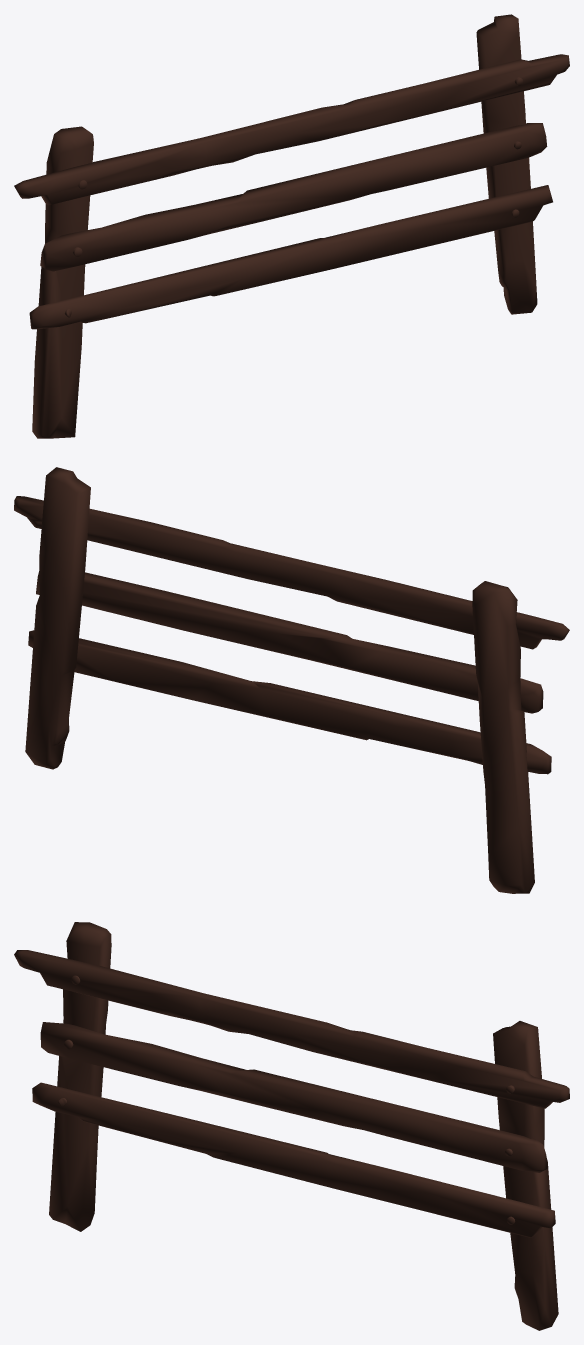
Rendered from SM_Fence_01.fbx.
3 renders of one model, top to bottom at view 1: azimuth 30°, elevation 25°; view 2: azimuth 150°, elevation 25°; view 3: azimuth 330°, elevation 25°, orthographic.
Visible parts, largest first — view 1: SM_Fence_01_LOD0; view 2: SM_Fence_01_LOD0; view 3: SM_Fence_01_LOD0.
Boxes of the visible parts, x1,y1,x2,y2 form: SM_Fence_01_LOD0: (14, 14, 569, 438); SM_Fence_01_LOD0: (14, 467, 569, 893); SM_Fence_01_LOD0: (14, 922, 569, 1330).
Size of what is drawn, in the model's own units: 245 by 131 by 16.18.
